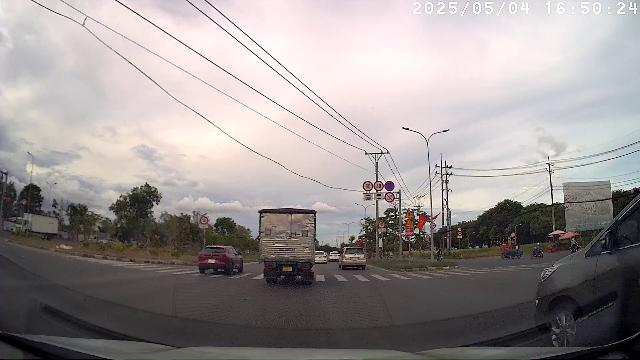127-toc-do-toi-da-60: (374, 181, 384, 191)
127-toc-do-toi-da-80: (362, 181, 373, 191)
130-cam-dung-va-do-xe: (385, 181, 395, 191)
